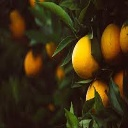orange: (70, 30, 102, 79), (101, 17, 121, 63), (22, 41, 45, 81)
